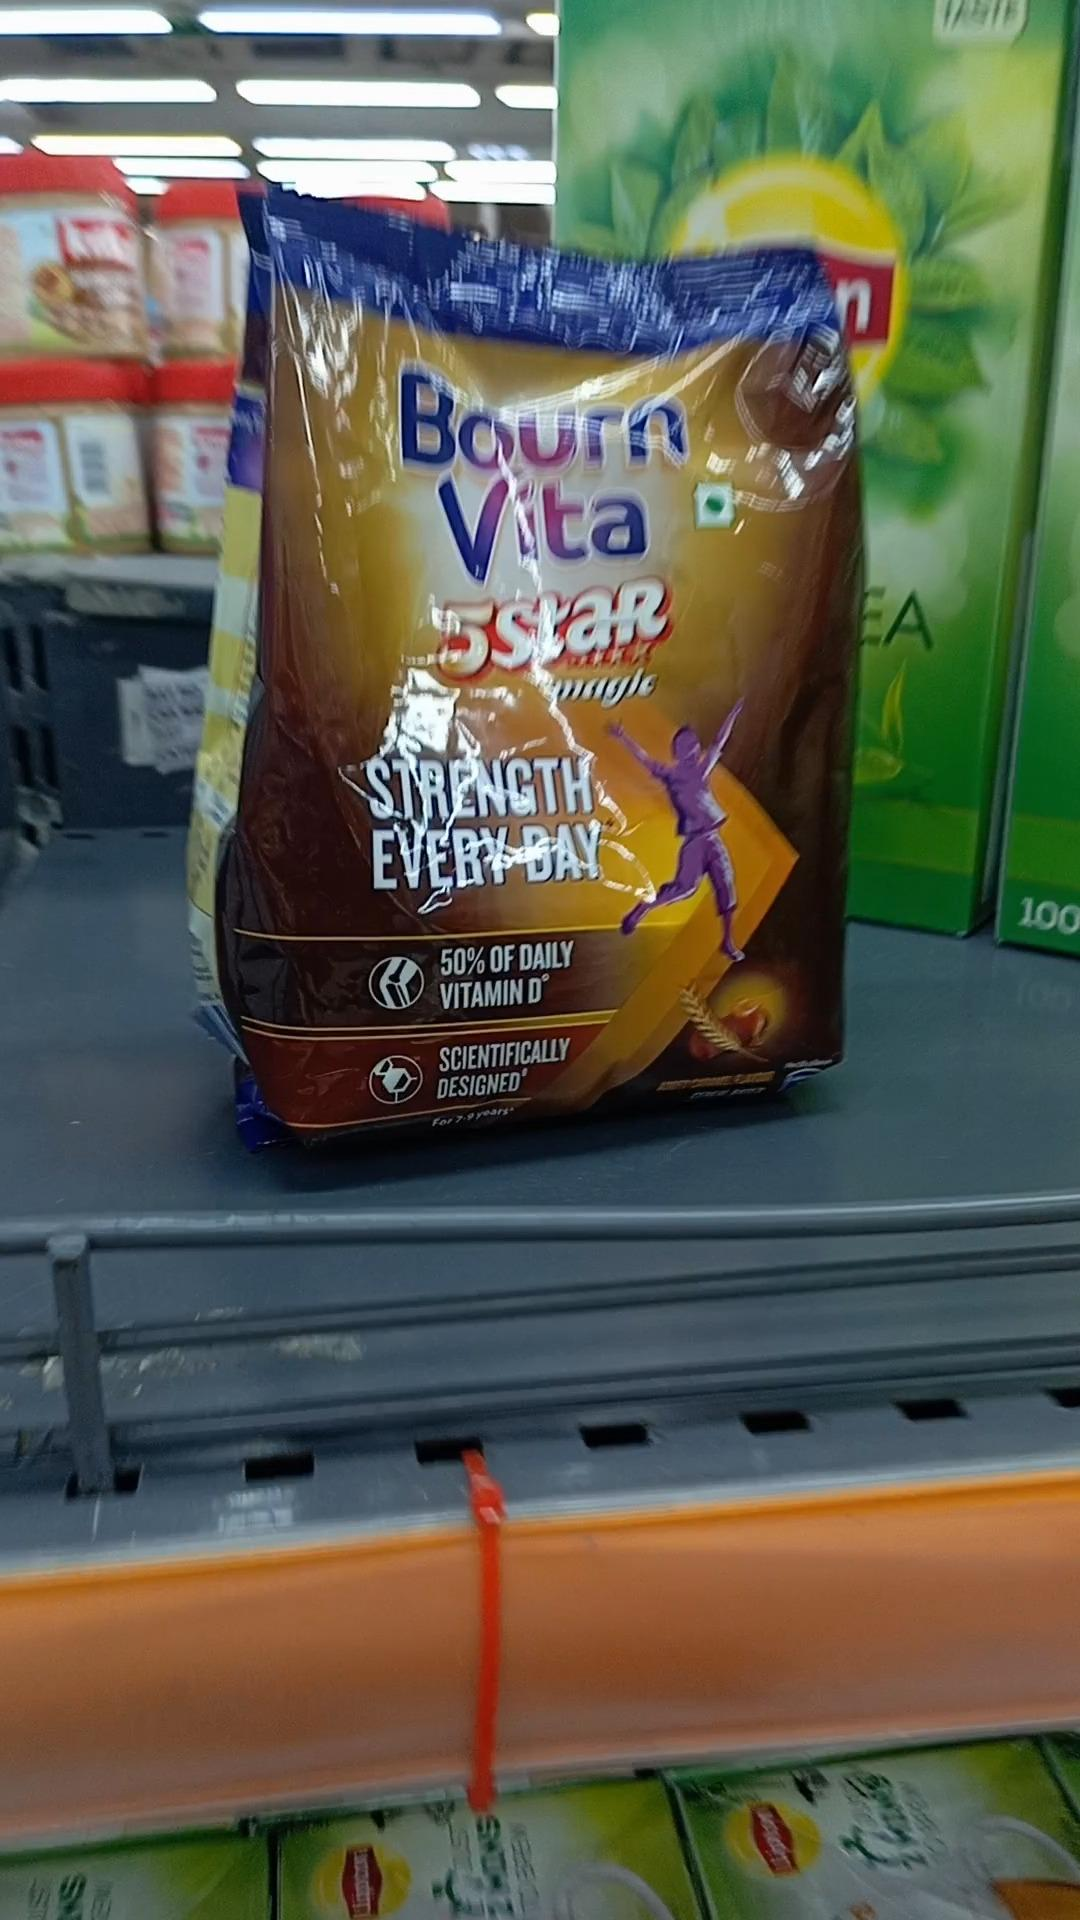BOURN_VITA_FIVE_STAR_MAGIC_500_G_POUCH: (244, 181, 862, 1114)
